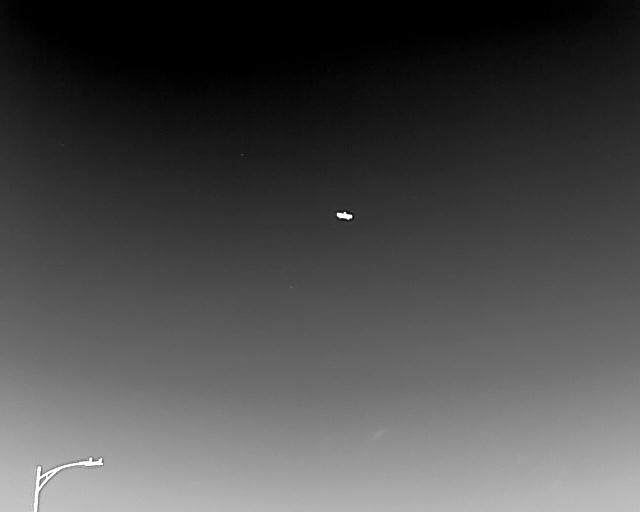fpv-drone: (335, 210, 353, 221)
